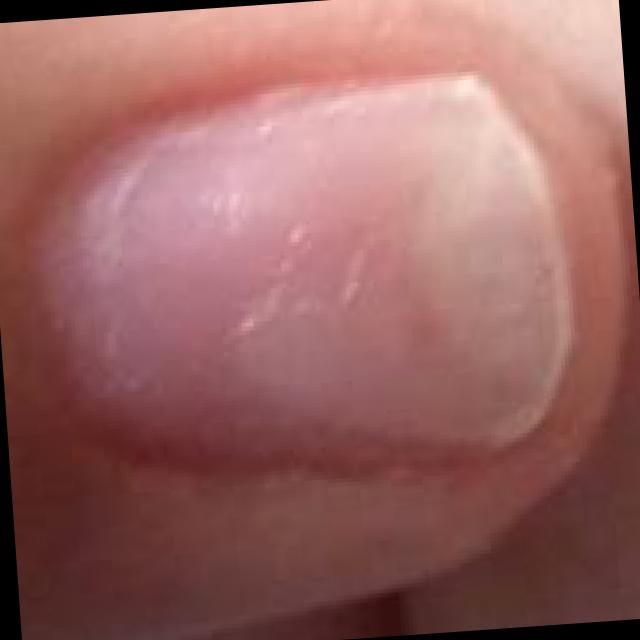Nail: (27, 71, 576, 460)
